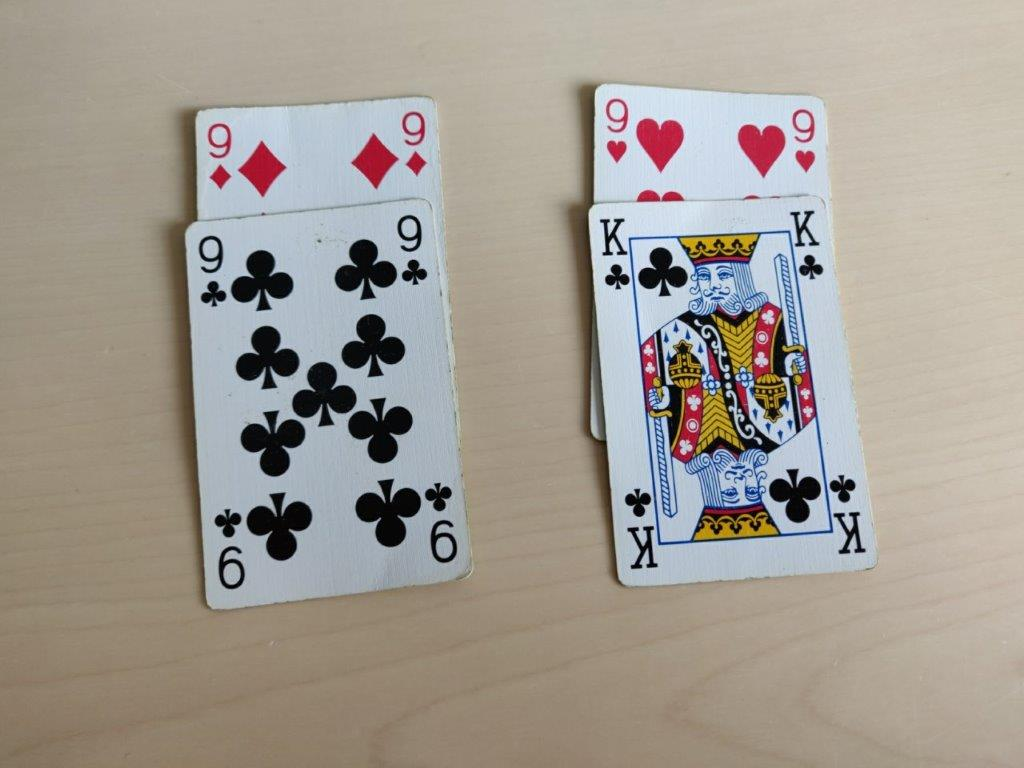9C: (187, 225, 235, 316), (387, 209, 437, 291)
9D: (197, 114, 238, 200), (394, 105, 435, 181)
9H: (784, 104, 824, 179), (594, 88, 631, 163)
KC: (590, 209, 638, 297), (786, 200, 830, 290)
